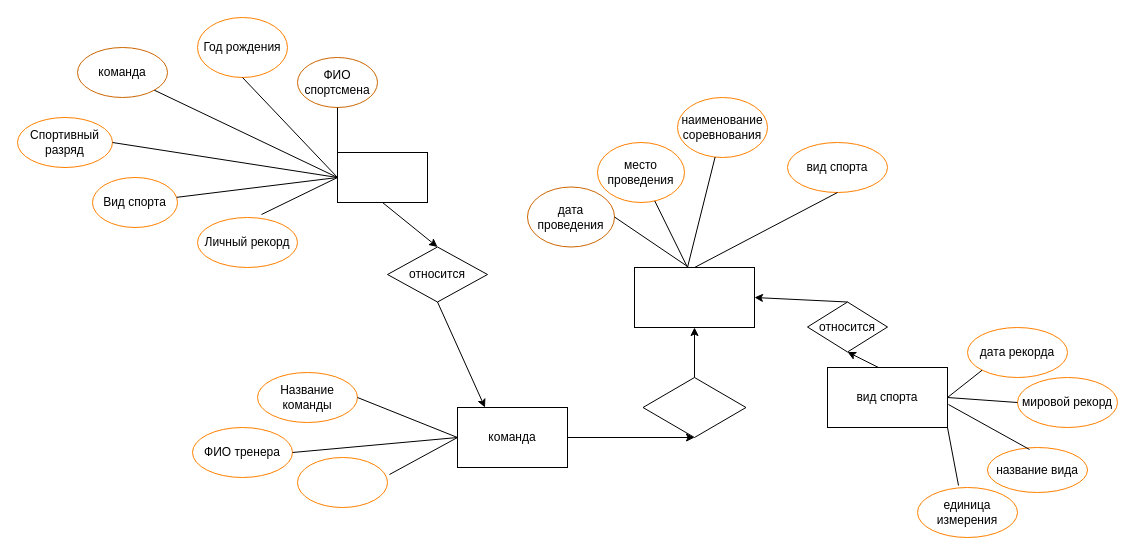
The diagram is 1135 pixels wide and 555 high, and some of its shapes have lost their labels. The centre of each missing label's shape, as x and y in pixels:
Город: the point at 342,482
соревнования: the point at 694,297
спортсмен: the point at 382,177
участвуют: the point at 694,407
